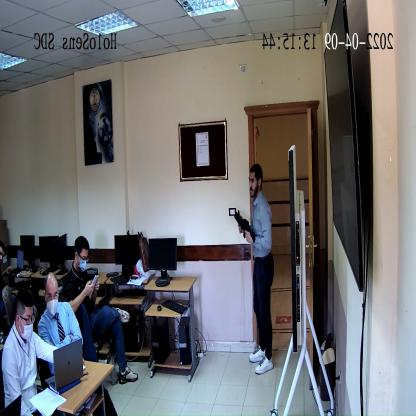handgun: (233, 209, 256, 245)
